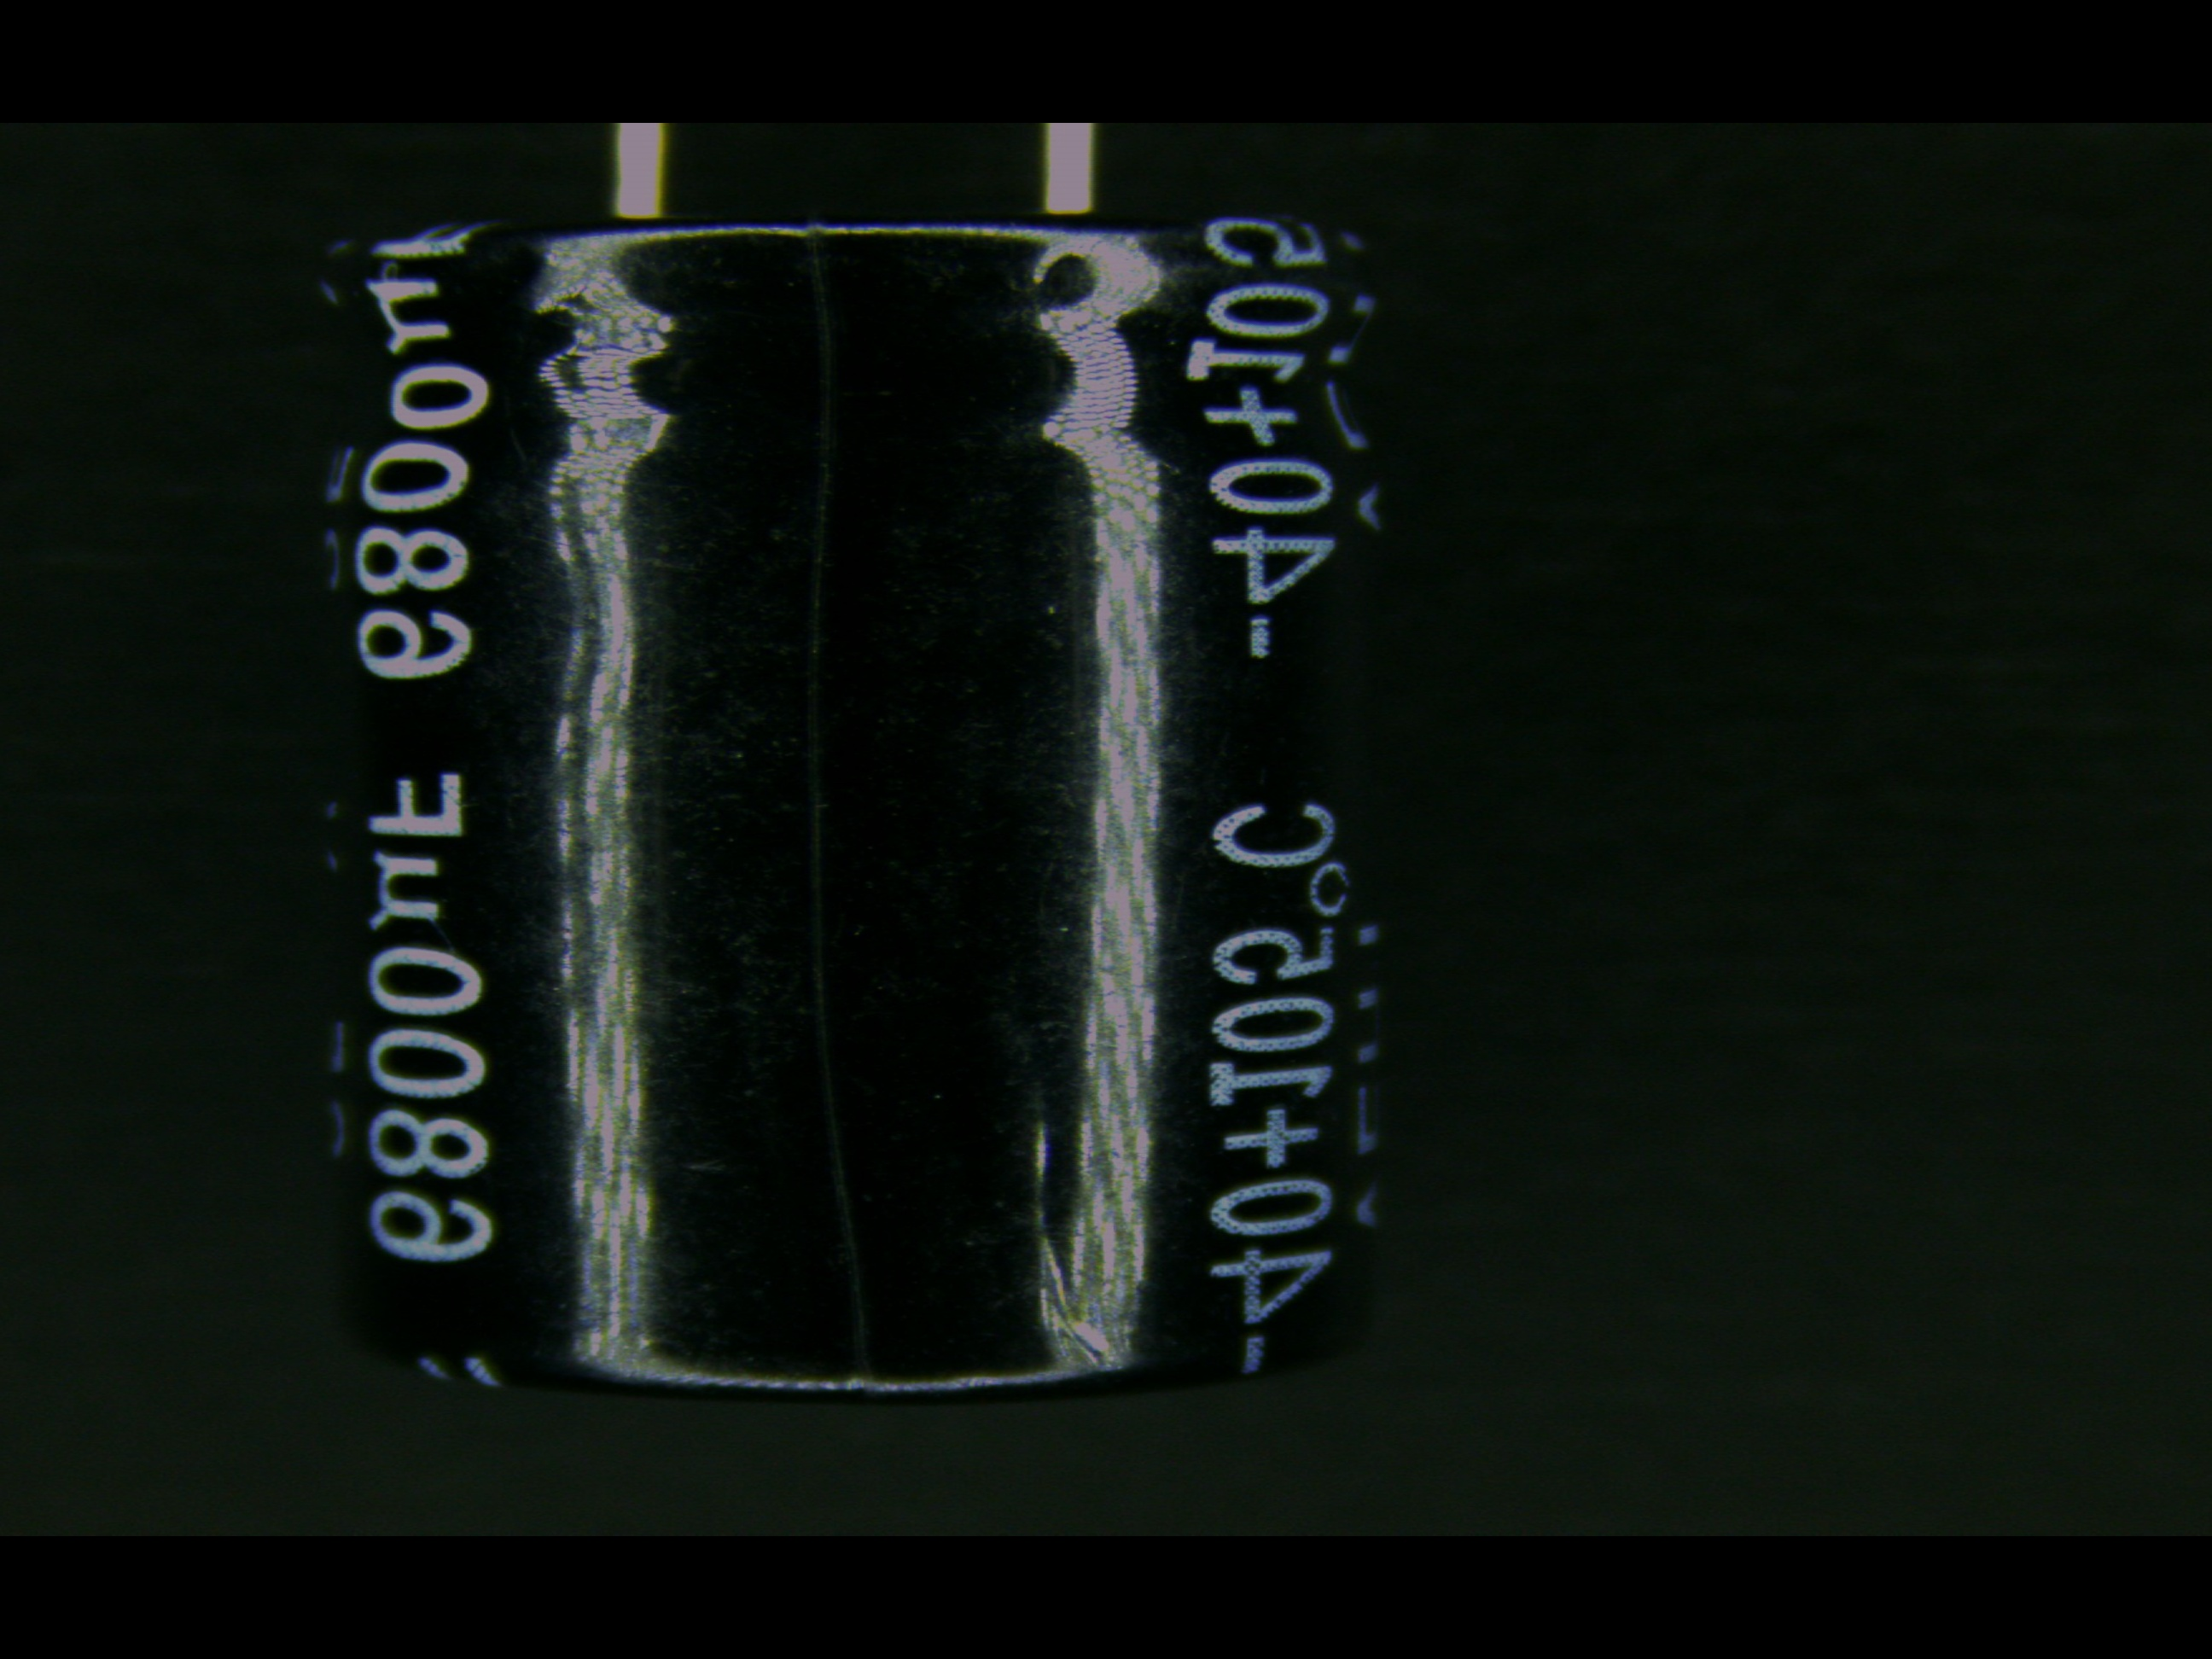c3: (307, 145, 1399, 1403)
